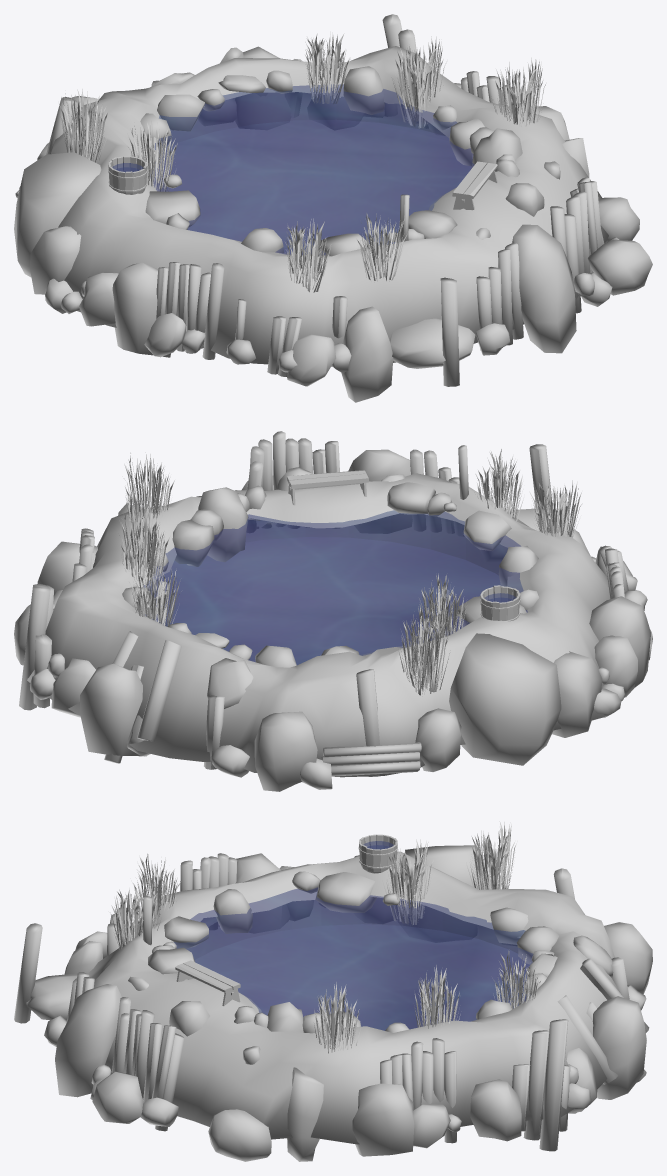
The model's file is Pond1.fbx.
The picture shows the model from 3 angles, top to bottom: view 1: azimuth 30°, elevation 25°; view 2: azimuth 150°, elevation 25°; view 3: azimuth 270°, elevation 25°; orthographic projection. The views are drawn at different scales.
Parts seen in each view (by area): view 1: Pond.001, Water, Rock.019, Rock.024, Rock.057, Rock.028, Rock.038, Grass.136, Rock.018, Rock.025, Grass.009, Grass.004 (+45 smaller); view 2: Pond.001, Water, Rock.024, Rock.037, Rock.034, Rock.025, Grass.004, Rock.028, Rock.040, Grass.136, Rock.009, Rock.019 (+37 smaller); view 3: Pond.001, Water, Rock.019, Rock.037, Rock.013, Rock.024, Rock.041, Rock.043, Rock.062, Log.041, Grass.014, Rock.018 (+41 smaller).
Part boxes in pixels (bbox=[...]): Pond.001: bbox=[44, 46, 608, 366]; Water: bbox=[150, 84, 474, 255]; Rock.019: bbox=[512, 224, 576, 353]; Rock.024: bbox=[14, 152, 101, 277]; Rock.057: bbox=[341, 306, 393, 402]; Rock.028: bbox=[112, 262, 170, 357]; Rock.038: bbox=[389, 318, 475, 368]; Grass.136: bbox=[393, 36, 444, 128]; Rock.018: bbox=[588, 239, 652, 295]; Rock.025: bbox=[29, 226, 81, 294]; Grass.009: bbox=[305, 31, 350, 103]; Grass.004: bbox=[59, 89, 108, 162]; Pond.001: bbox=[27, 473, 610, 777]; Water: bbox=[144, 510, 527, 665]; Rock.024: bbox=[449, 633, 561, 765]; Rock.037: bbox=[80, 663, 146, 756]; Rock.034: bbox=[254, 711, 317, 791]; Rock.025: bbox=[552, 651, 602, 737]; Grass.004: bbox=[399, 606, 449, 695]; Rock.028: bbox=[589, 596, 650, 687]; Rock.040: bbox=[415, 708, 461, 771]; Grass.136: bbox=[119, 508, 170, 595]; Rock.009: bbox=[198, 487, 248, 562]; Rock.019: bbox=[348, 449, 412, 533]; Pond.001: bbox=[87, 851, 628, 1144]; Water: bbox=[174, 887, 533, 1030]; Rock.019: bbox=[55, 984, 121, 1097]; Rock.037: bbox=[592, 996, 646, 1099]; Rock.013: bbox=[352, 1083, 414, 1156]; Rock.024: bbox=[396, 845, 490, 942]; Rock.041: bbox=[470, 1079, 521, 1141]; Rock.043: bbox=[208, 1109, 271, 1161]; Rock.062: bbox=[287, 1067, 323, 1161]; Log.041: bbox=[539, 1019, 568, 1151]; Grass.014: bbox=[383, 839, 433, 925]; Rock.018: bbox=[92, 1071, 143, 1123].
Size of what is drawn, in the model's own units: 2133 by 593 by 1999.
